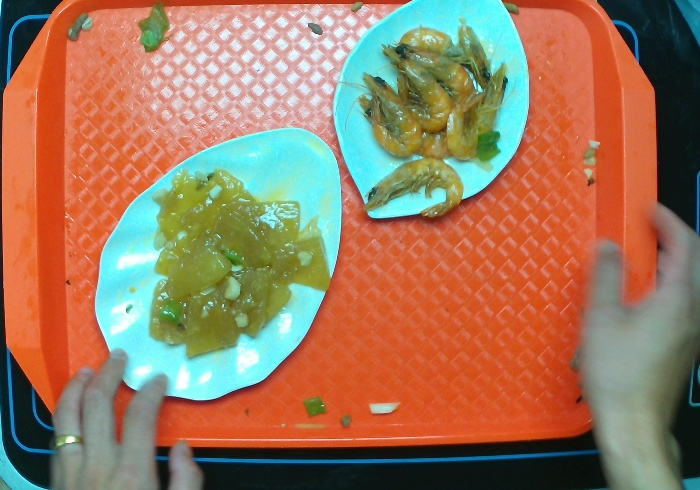RJxy-Bai_Ye_Pan: (92, 126, 343, 402)
RJxy-Da_Du_Pan: (331, 1, 531, 220)
